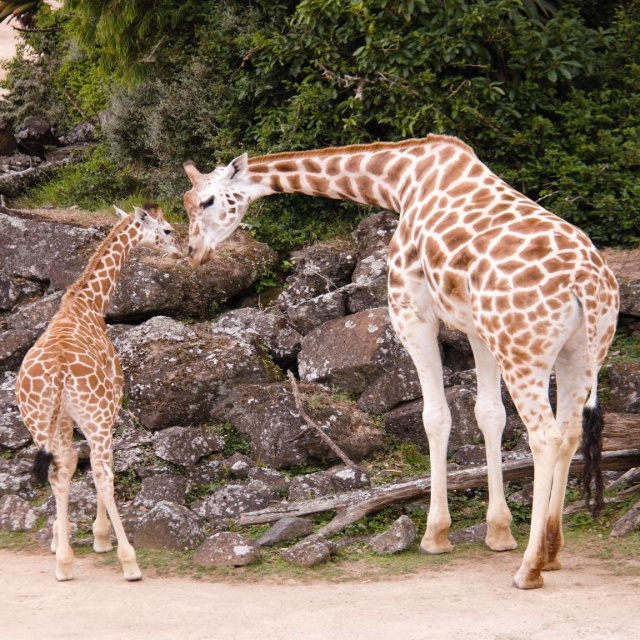Giraffe: (193, 130, 640, 555), (15, 202, 172, 583)
